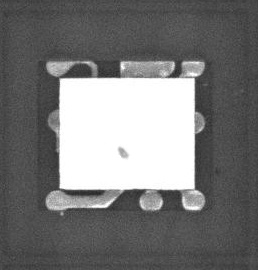DIE_INK: (112, 151, 124, 167)
